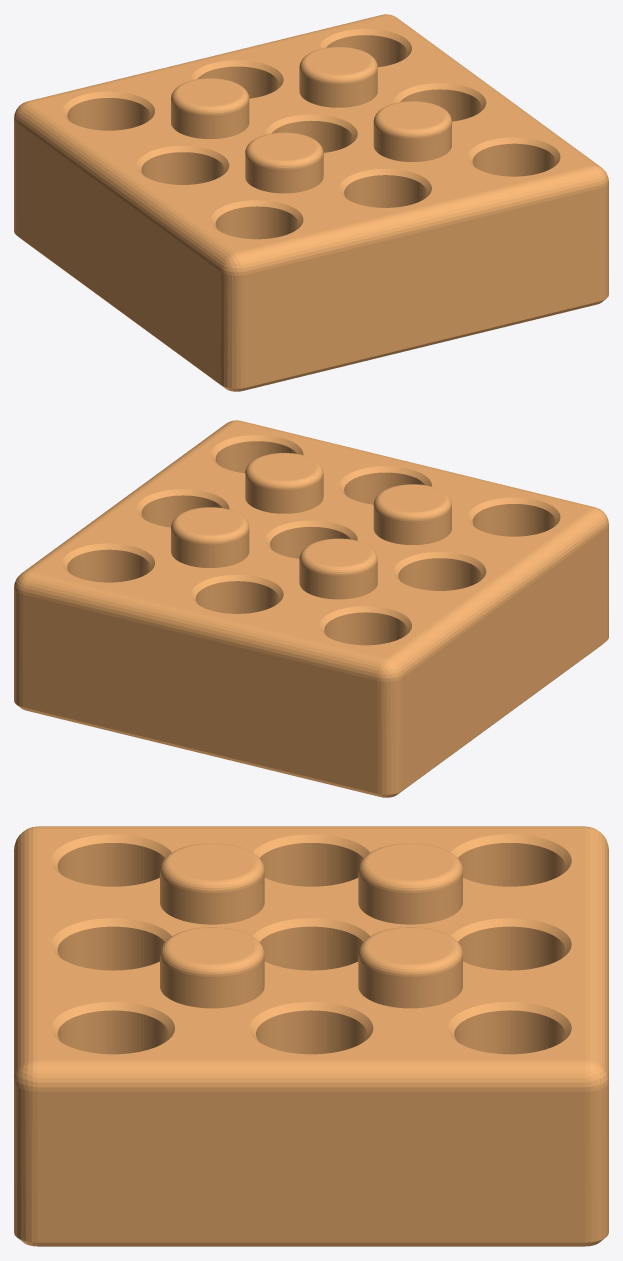
File: adapter-snap-pro.glb
The picture shows the model from 3 angles, top to bottom: view 1: azimuth 30°, elevation 25°; view 2: azimuth 150°, elevation 25°; view 3: azimuth 270°, elevation 25°; orthographic projection. The views are drawn at different scales.
Visible parts, largest first — view 1: adapter-snap-pro; view 2: adapter-snap-pro; view 3: adapter-snap-pro.
Part boxes in pixels (box(x1,y1,x2,y2)): adapter-snap-pro: box(14, 14, 608, 391); adapter-snap-pro: box(14, 420, 608, 797); adapter-snap-pro: box(14, 826, 608, 1246).
Size of the model in its own units: 0.0375 by 0.0153 by 0.0375.
